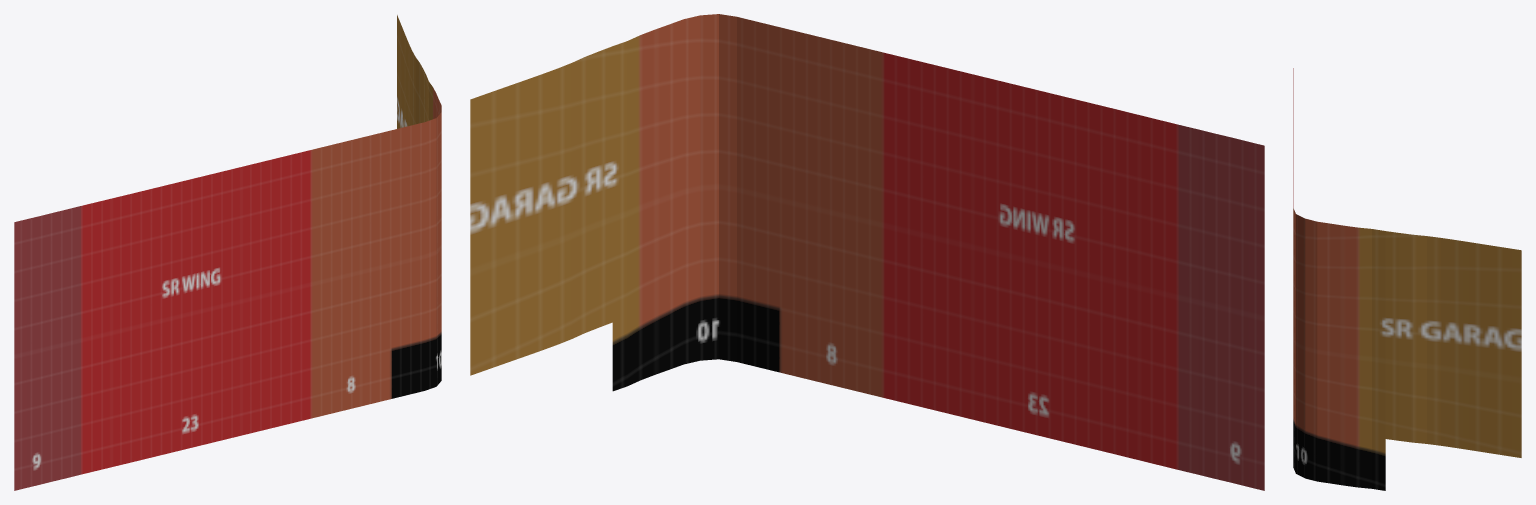
The model's file is ANYMA_Coachella_Stage_v015_SR_WING_CORR_PERSP.glb.
3 renders of one model, left to right at view 1: azimuth 30°, elevation 25°; view 2: azimuth 150°, elevation 25°; view 3: azimuth 270°, elevation 25°, orthographic. The views are drawn at different scales.
Visible parts, largest first — view 1: LED_SR_WING_FrontP_baked_perspective; view 2: LED_SR_WING_FrontP_baked_perspective; view 3: LED_SR_WING_FrontP_baked_perspective.
Part boxes in pixels (left/top/right/bottom): LED_SR_WING_FrontP_baked_perspective: left=14, top=15, right=441, bottom=490; LED_SR_WING_FrontP_baked_perspective: left=470, top=14, right=1264, bottom=490; LED_SR_WING_FrontP_baked_perspective: left=1293, top=68, right=1521, bottom=490.
Bounding box in the file's own units: 23.39 × 12 × 9.54.
1 material, 1 textured.
